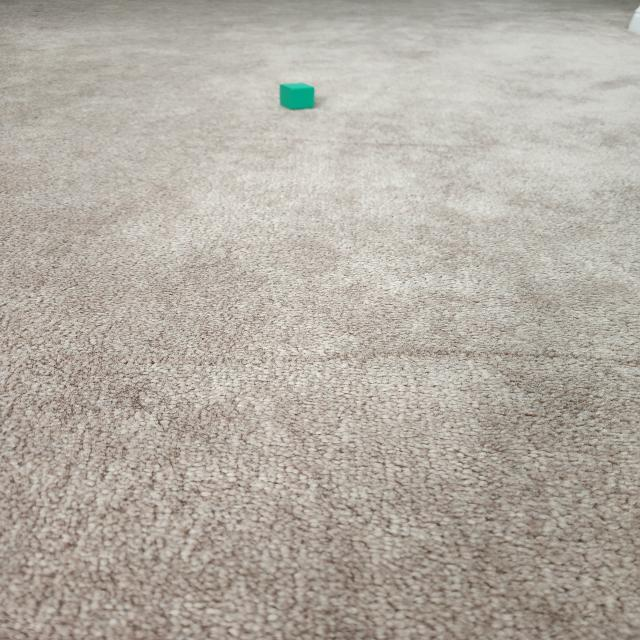green cube: (280, 82, 315, 110)
